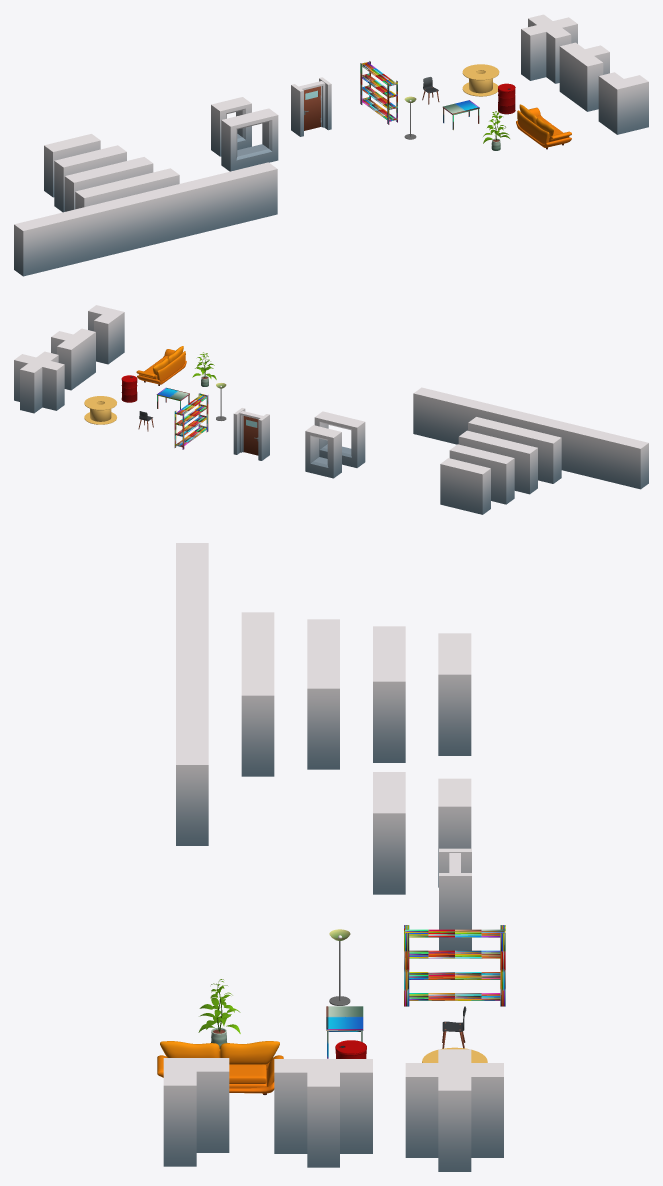
Rendered from Environment_Assets.fbx.
The picture shows the model from 3 angles, top to bottom: view 1: azimuth 30°, elevation 25°; view 2: azimuth 150°, elevation 25°; view 3: azimuth 270°, elevation 25°; orthographic projection. The views are drawn at different scales.
Visible parts, largest first — view 1: Wall_16, Wall_Cross_Connection, Wall_L_Connection, Wall_T_Connection, Window_Wide, Wall_6, Wall_5, Wall_4, Wall_3, Shelf, Window, Sofa (+6 smaller); view 2: Wall_16, Wall_Cross_Connection, Wall_3, Wall_6, Wall_5, Wall_T_Connection, Wall_4, Wall_L_Connection, Window, Window_Wide, Shelf, Door_Frame (+6 smaller); view 3: Wall_Cross_Connection, Wall_16, Wall_T_Connection, Wall_L_Connection, Wall_6, Wall_5, Wall_4, Wall_3, Window_Wide, Shelf, Sofa, Door_Frame (+3 smaller).
Boxes of the visible parts, x1,y1,x2,y2 form: Wall_16: [14, 162, 277, 276]; Wall_Cross_Connection: [521, 14, 577, 83]; Wall_L_Connection: [598, 72, 648, 134]; Wall_T_Connection: [559, 42, 609, 111]; Window_Wide: [221, 108, 278, 171]; Wall_6: [75, 168, 179, 209]; Wall_5: [64, 157, 153, 211]; Wall_4: [54, 145, 126, 212]; Wall_3: [44, 134, 100, 197]; Shelf: [360, 61, 397, 124]; Window: [211, 97, 251, 156]; Sofa: [516, 104, 571, 149]; Wall_16: [413, 387, 648, 489]; Wall_Cross_Connection: [14, 351, 64, 413]; Wall_3: [440, 458, 490, 514]; Wall_6: [468, 417, 561, 483]; Wall_5: [458, 430, 537, 494]; Wall_T_Connection: [51, 328, 95, 390]; Wall_4: [449, 444, 514, 504]; Wall_L_Connection: [88, 305, 124, 364]; Window: [305, 425, 341, 478]; Window_Wide: [314, 411, 365, 467]; Shelf: [174, 393, 208, 449]; Door_Frame: [233, 408, 269, 460]; Wall_Cross_Connection: [405, 1049, 503, 1171]; Wall_16: [176, 543, 208, 845]; Wall_T_Connection: [274, 1059, 372, 1167]; Wall_L_Connection: [163, 1058, 229, 1166]; Wall_6: [241, 612, 274, 776]; Wall_5: [307, 619, 339, 769]; Wall_4: [373, 626, 405, 762]; Wall_3: [438, 633, 471, 755]; Window_Wide: [373, 772, 405, 894]; Shelf: [404, 925, 505, 1006]; Sofa: [157, 1041, 283, 1094]; Door_Frame: [439, 848, 471, 950].
Size of the model in its own units: 3950 by 274 by 1062.
